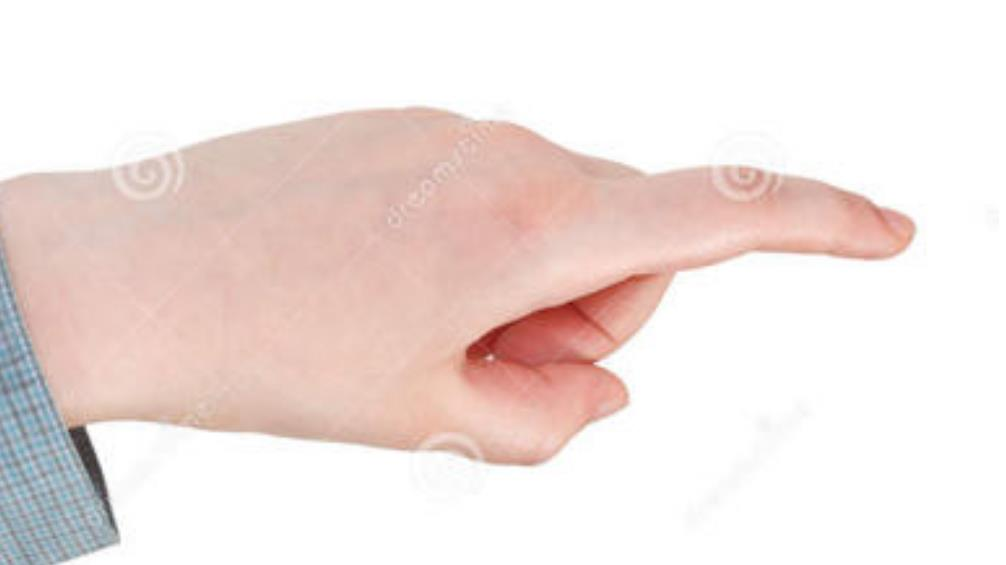up: (97, 101, 939, 461)
